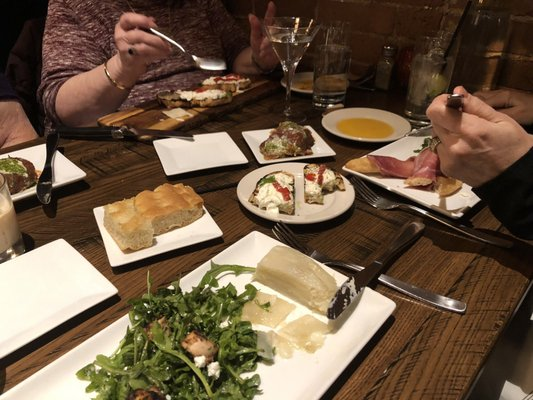pizza: (403, 50, 449, 122), (311, 44, 352, 110), (0, 172, 25, 263)
sandwich: (326, 222, 425, 320), (376, 273, 467, 314)
soup: (102, 182, 205, 252)
